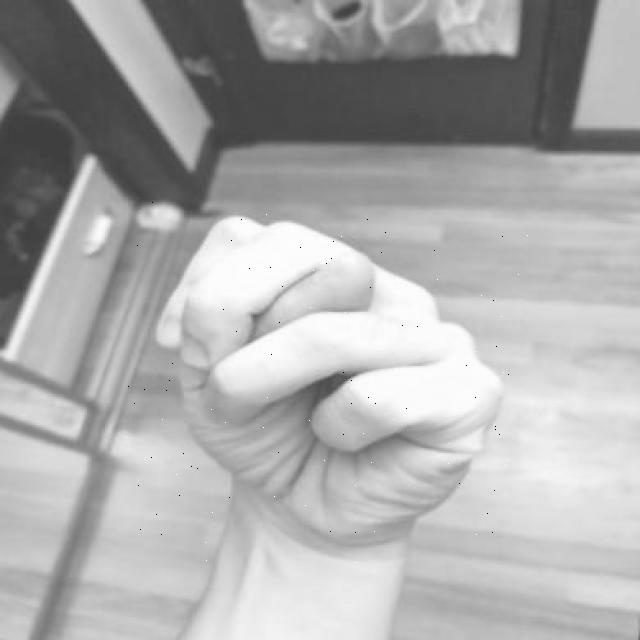N: (125, 201, 528, 565)
